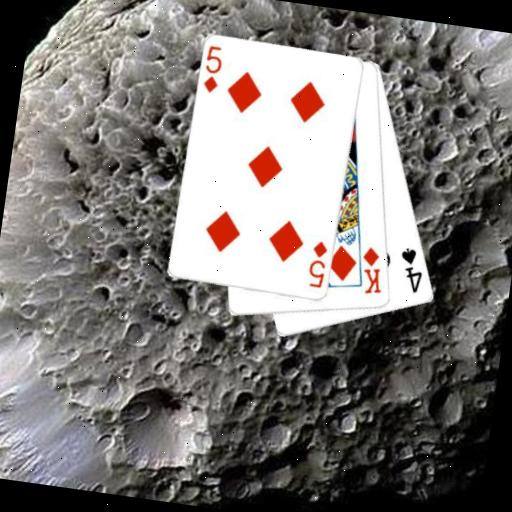4S: (393, 244, 428, 296)
5D: (304, 237, 331, 290), (199, 43, 226, 96)
KD: (355, 244, 389, 298)
